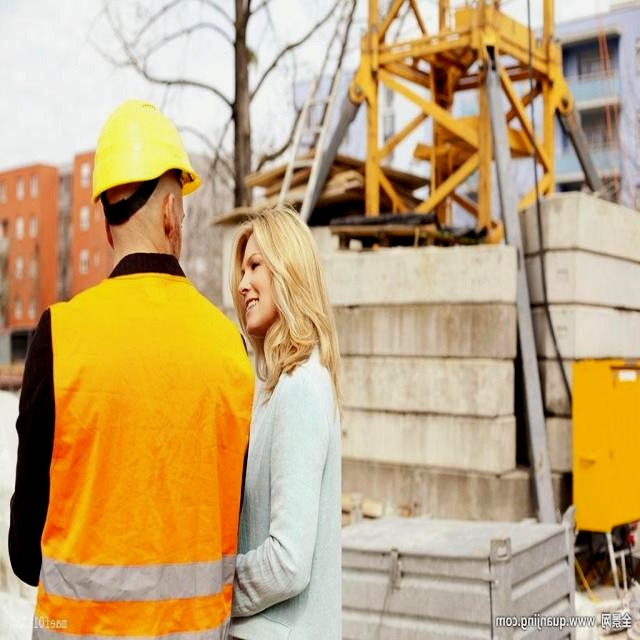Con_Casco: (95, 102, 187, 261)
Con_Chaleco: (31, 286, 237, 640)
Sin_Casco_Mascarrilla: (239, 209, 311, 335)
Sin_Chaleco: (241, 363, 349, 640)
